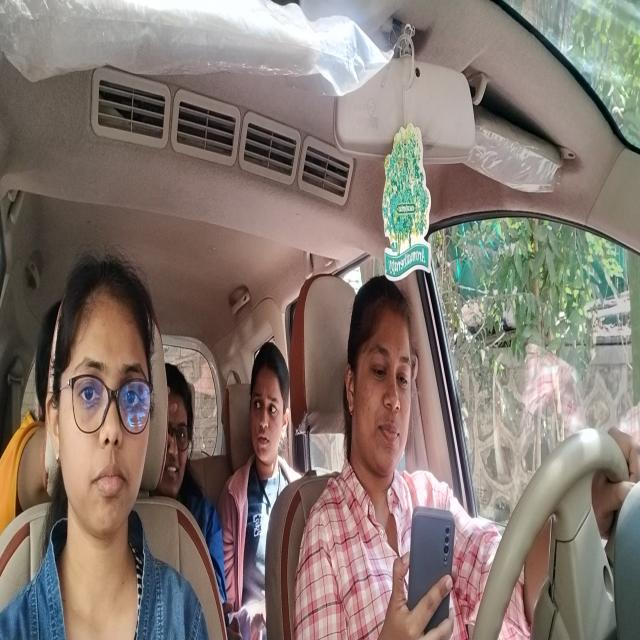mobile: (407, 501, 458, 640)
person: (45, 251, 156, 554), (344, 266, 414, 489), (158, 348, 196, 512), (250, 331, 292, 477)
